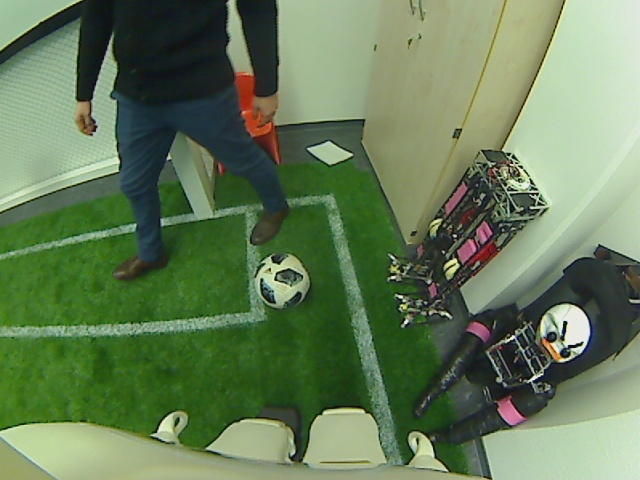ball: (253, 252, 310, 311)
